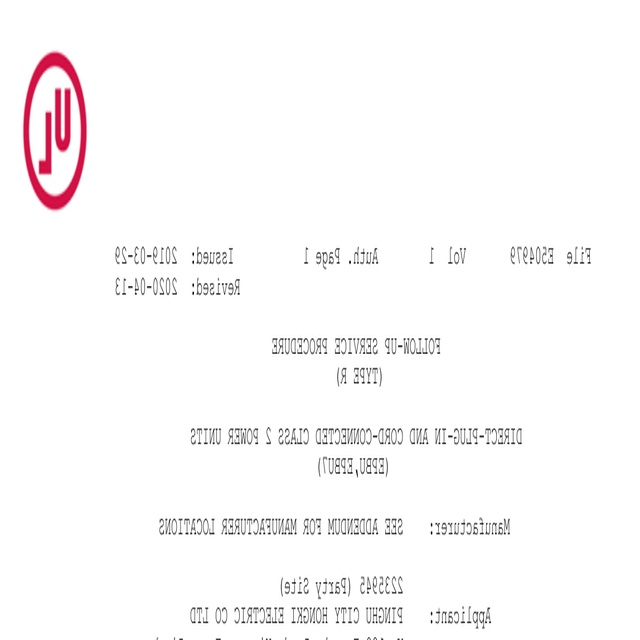ul: (20, 52, 91, 210)
